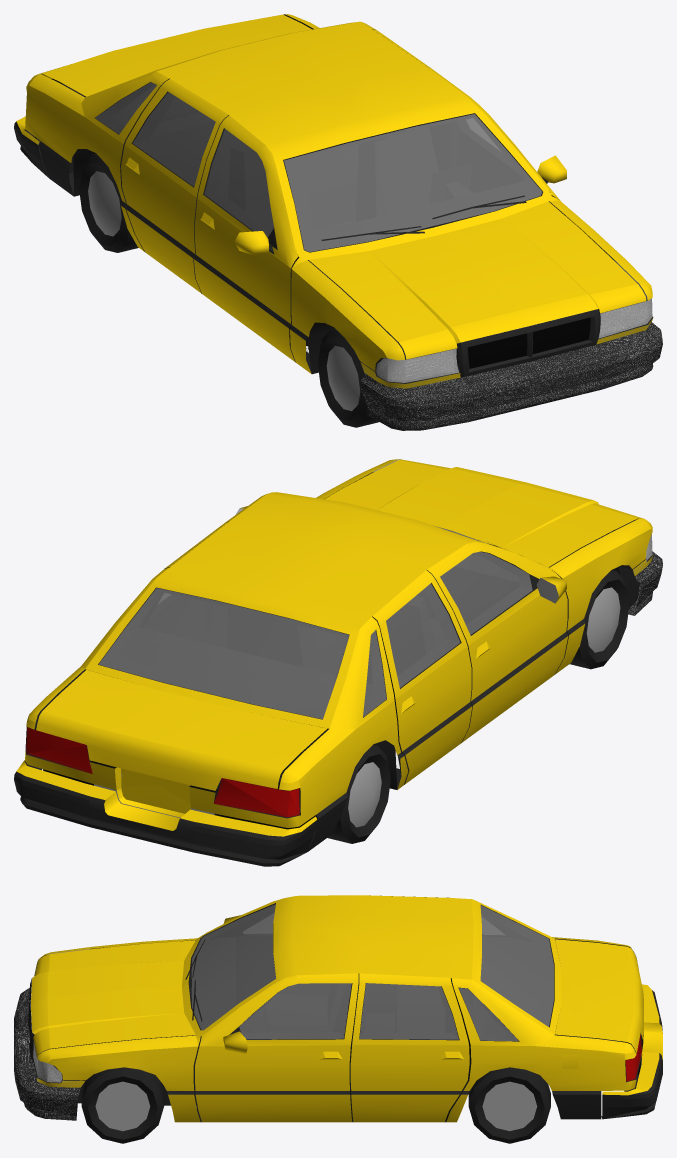
Rendered from yellow_car.dae.
3 renders of one model, top to bottom at view 1: azimuth 30°, elevation 25°; view 2: azimuth 150°, elevation 25°; view 3: azimuth 270°, elevation 25°, orthographic. The views are drawn at different scales.
Visible parts, largest first — view 1: SketchUp (×32); view 2: SketchUp (×27); view 3: SketchUp (×30).
Part boxes in pixels (bbox=[...]): SketchUp (×32): bbox=[14, 14, 662, 430]; SketchUp (×27): bbox=[14, 459, 662, 866]; SketchUp (×30): bbox=[14, 895, 662, 1143].
Bounding box in the file's own units: 70.35 × 150 × 41.4.
Materials: 17 (2 with a texture image).
